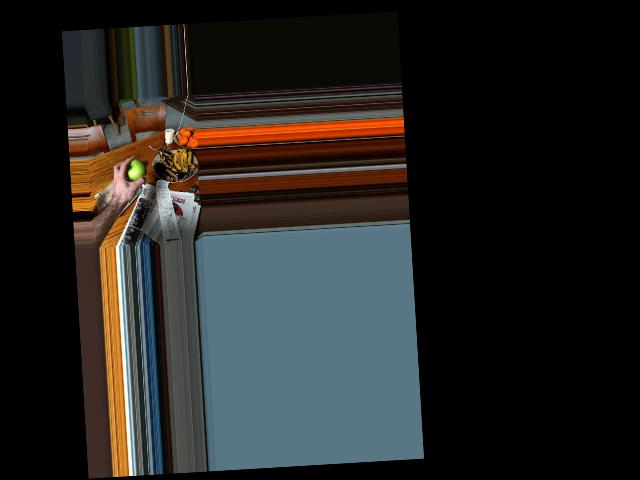apple: (122, 154, 147, 185)
